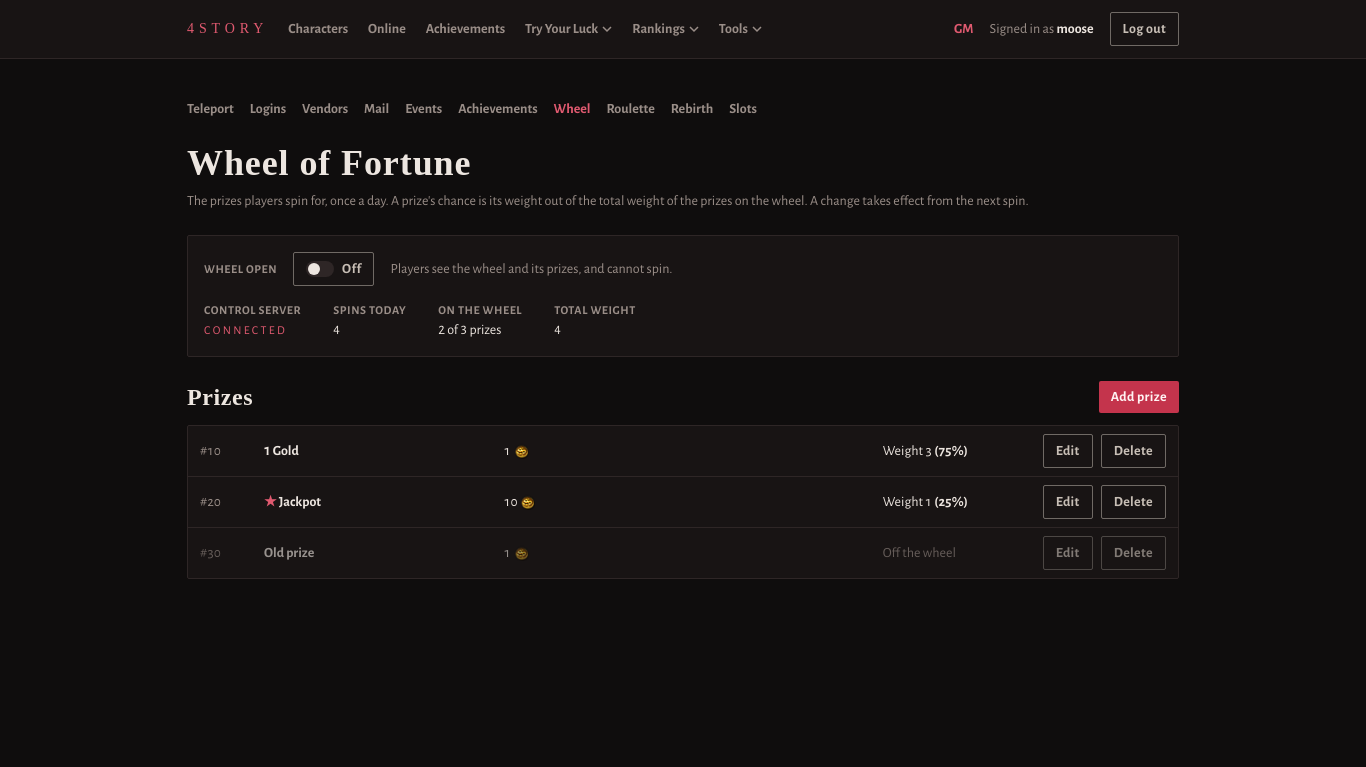
GM wheel page › prizes › does not save a prize with no name
Click the button "Add prize" at x=1139, y=397, box [1099,381,1179,413]
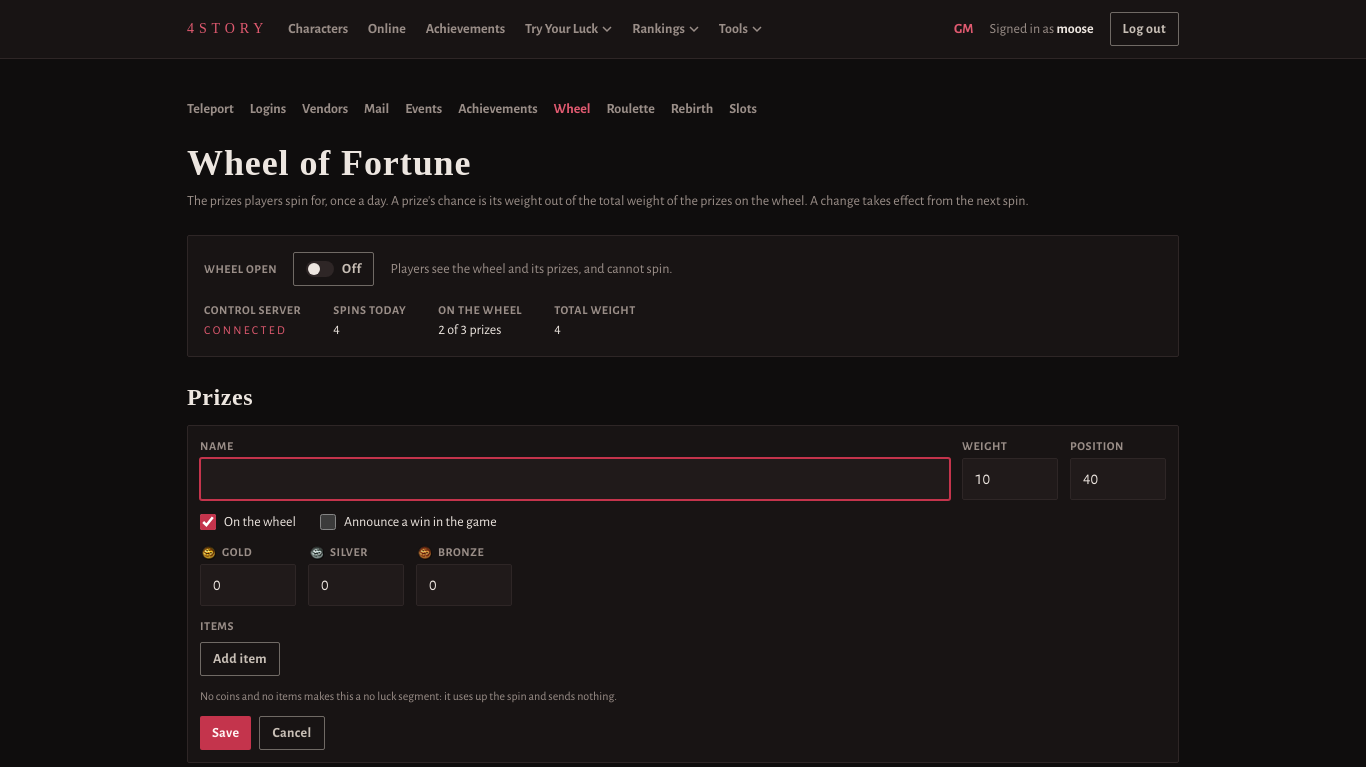
Click the button "Save" at x=226, y=733, box [200,716,252,750]
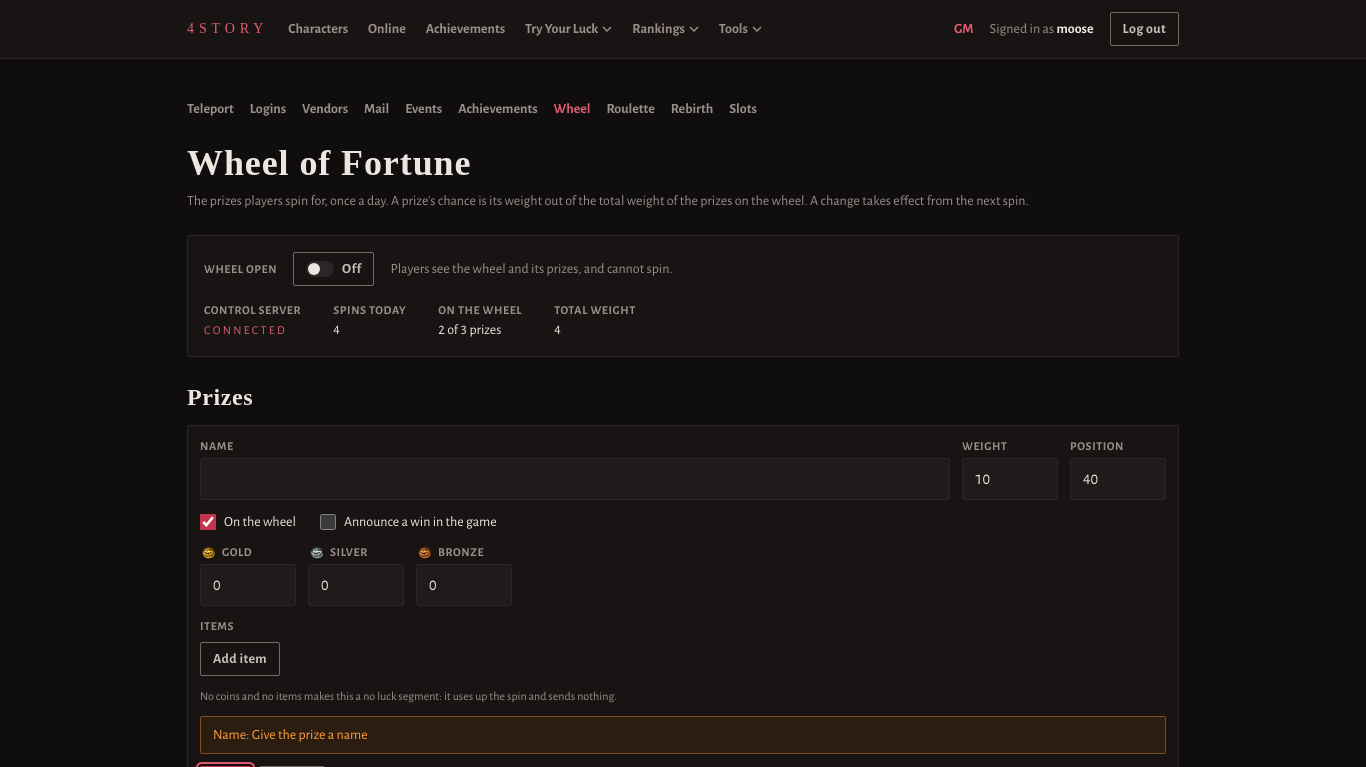
Expected: the message "Name: Give the prize a name" is shown, [200,716,1166,754]
